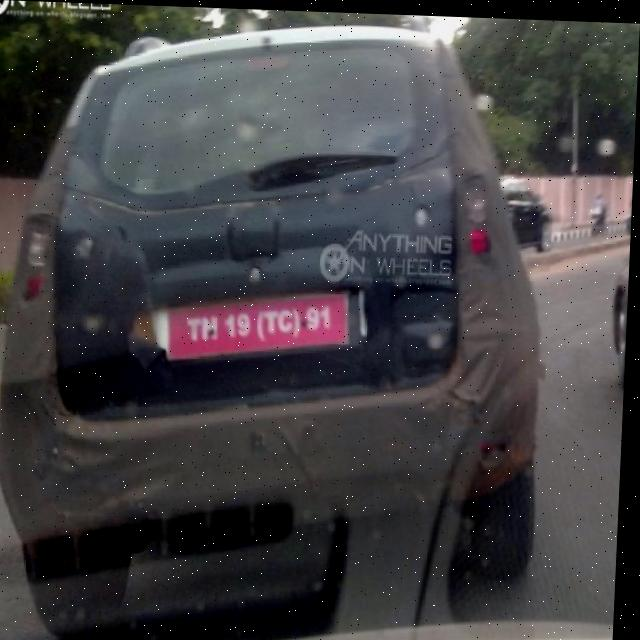plate: (158, 279, 361, 365)
